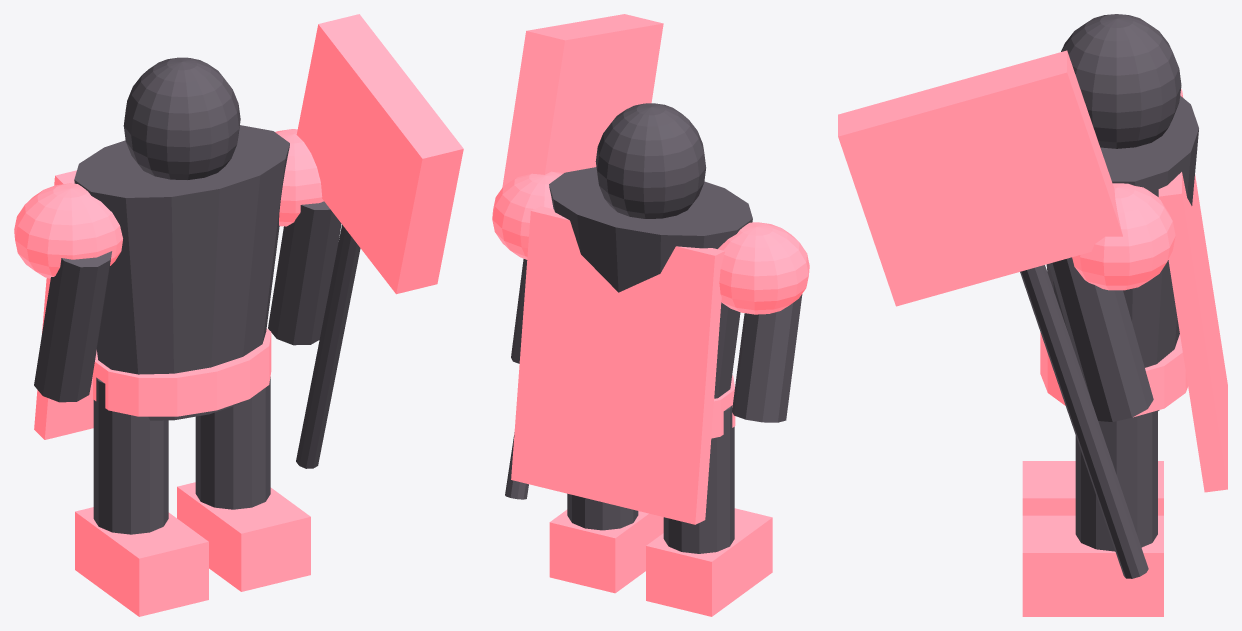
Rendered from enemy_elite_executioner.glb.
3 renders of one model, left to right at view 1: azimuth 30°, elevation 25°; view 2: azimuth 150°, elevation 25°; view 3: azimuth 270°, elevation 25°, orthographic. The views are drawn at different scales.
Parts seen in each view (by area): view 1: Cone, Cube.003, Sphere.002, Cube, Cube.001, Cylinder, Cylinder.003, Cylinder.002, Cylinder.001, Cylinder.004, Sphere, Cylinder.005 (+2 smaller); view 2: Cube.002, Cube.003, Cone, Sphere.002, Cube, Sphere, Cube.001, Cylinder.003, Cylinder, Sphere.001, Cylinder.001, Cylinder.002 (+2 smaller); view 3: Cube.003, Sphere.002, Cube.001, Cube.002, Cylinder.004, Cone, Cylinder.005, Cylinder.001, Sphere.001, Cube, Cylinder.002.
Boxes of the visible parts, x1,y1,x2,y2 form: Cone: (74, 125, 289, 420); Cube.003: (296, 14, 463, 294); Sphere.002: (123, 57, 240, 179); Cube: (75, 507, 208, 616); Cube.001: (177, 482, 310, 591); Cylinder: (93, 377, 168, 534); Cylinder.003: (34, 251, 111, 402); Cylinder.002: (93, 328, 271, 416); Cylinder.001: (195, 377, 270, 509); Cylinder.004: (268, 201, 341, 345); Sphere: (14, 183, 122, 278); Cylinder.005: (296, 224, 360, 468); Cube.002: (511, 206, 724, 524); Cube.003: (502, 14, 663, 187); Cone: (549, 167, 752, 398); Sphere.002: (595, 103, 706, 218); Cube: (646, 508, 772, 616); Sphere: (718, 222, 809, 314); Cube.001: (549, 509, 663, 593); Cylinder.003: (732, 294, 802, 422); Cylinder: (663, 405, 734, 553); Sphere.001: (492, 171, 562, 259); Cylinder.001: (567, 493, 638, 530); Cylinder.002: (711, 375, 735, 438); Cube.003: (838, 50, 1122, 306); Sphere.002: (1061, 14, 1181, 148); Cube.001: (1022, 515, 1163, 616); Cube.002: (1158, 89, 1227, 492); Cylinder.004: (1049, 257, 1153, 422); Cone: (1046, 96, 1198, 410); Cylinder.005: (1020, 265, 1148, 578); Cylinder.001: (1075, 410, 1157, 551); Sphere.001: (1072, 183, 1175, 290); Cube: (1022, 461, 1163, 515); Cylinder.002: (1040, 332, 1187, 417).
Bounding box in the file's own units: 1.88 × 2.94 × 1.79.
